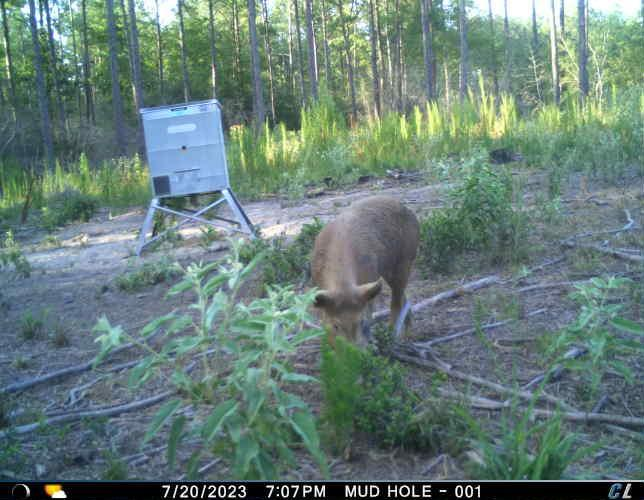Hog: (308, 193, 427, 358)
